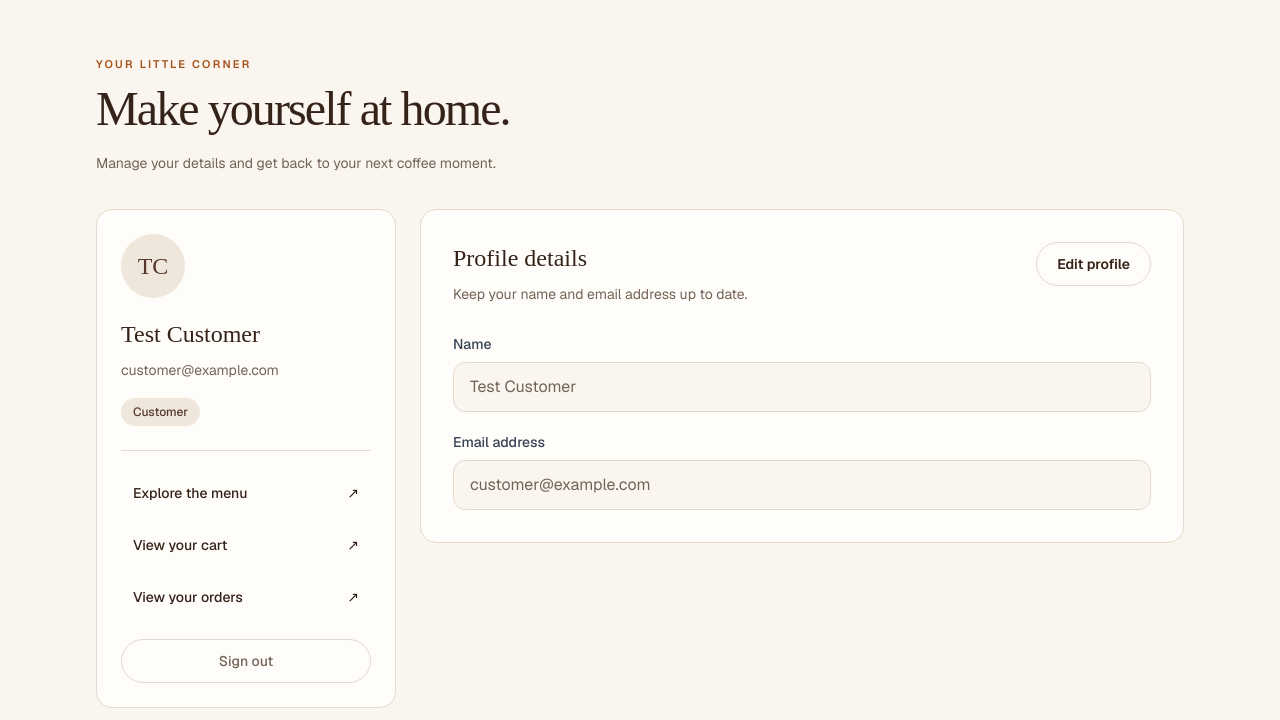
Test case: AccountPage › discards unsaved changes when editing is cancelled
Click the button "Edit profile" at (1094, 264), box [1036, 242, 1151, 286]
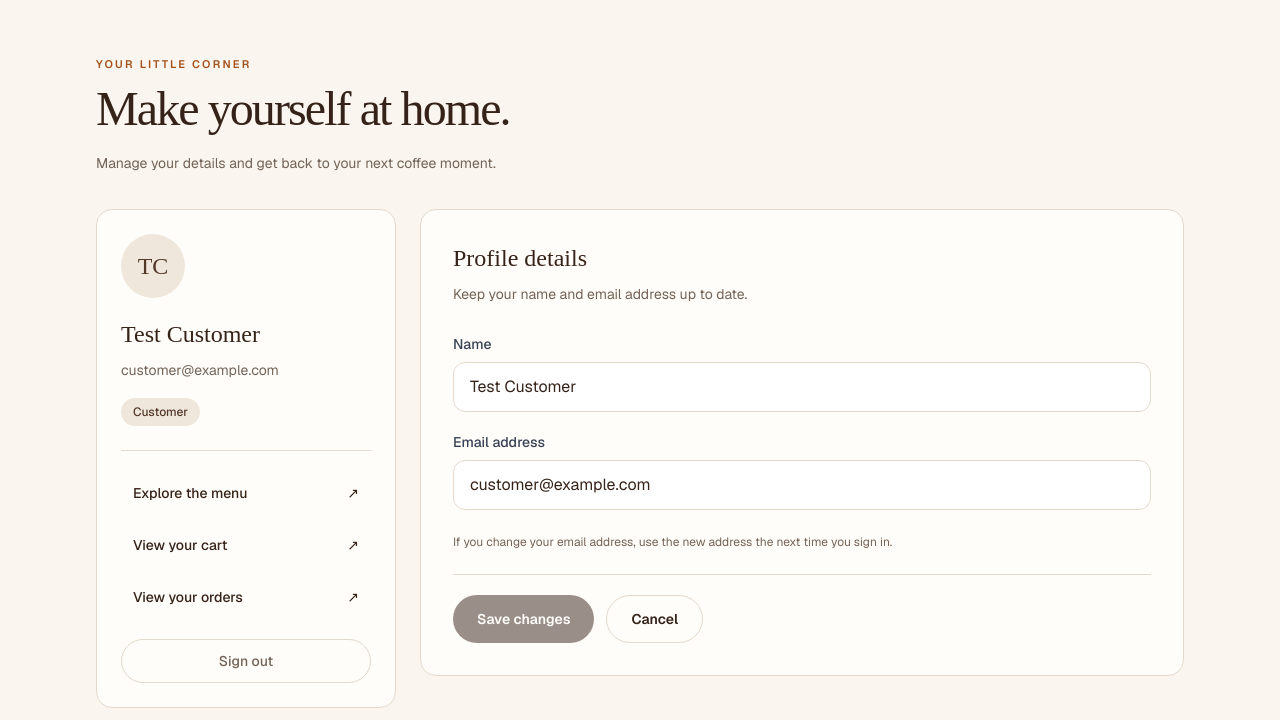
Replace the text in the field labelled "Name" with "Unsaved Customer" at (802, 386), box [453, 362, 1151, 412]
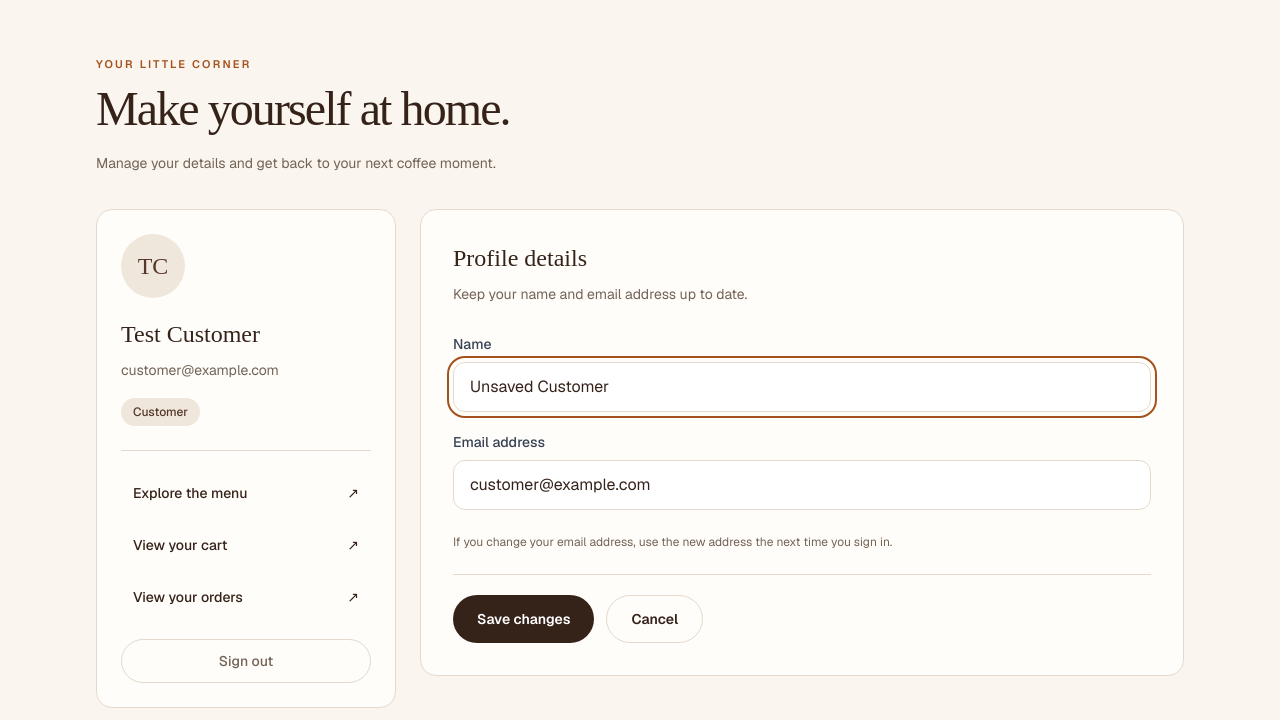
Click the button "Cancel" at (655, 618), box [606, 594, 703, 642]
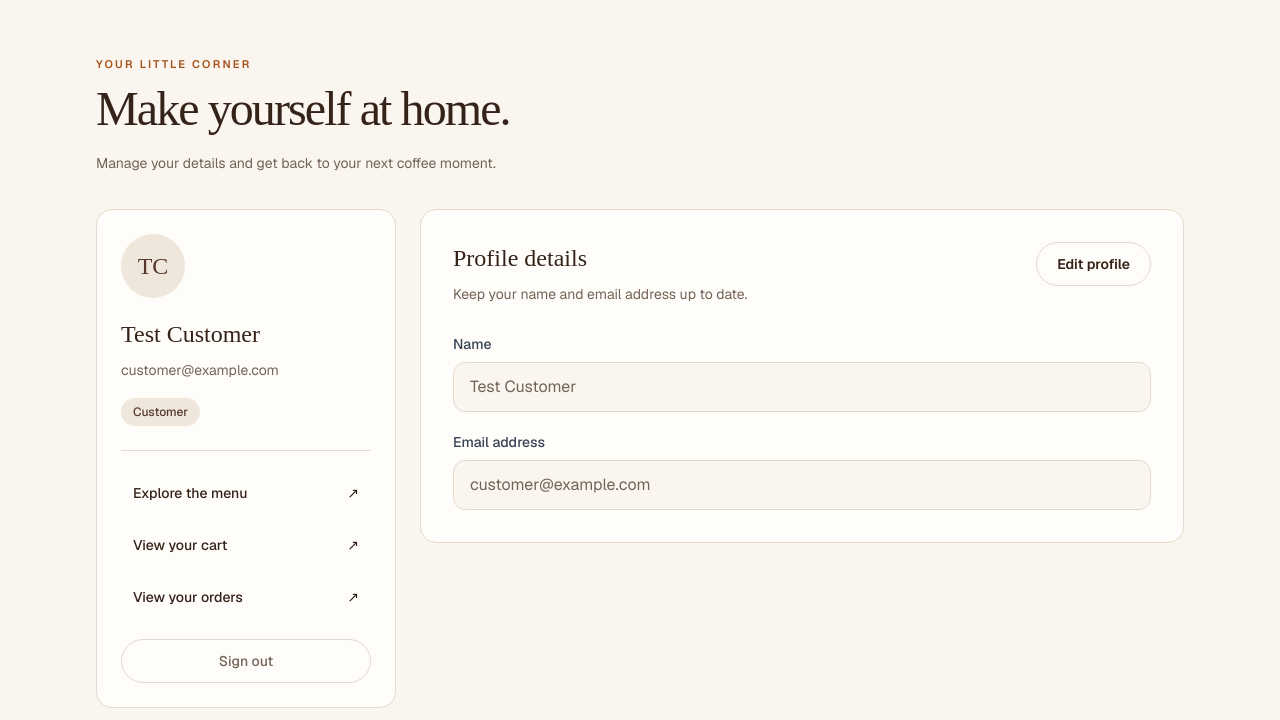
Now the field labelled "Name" holds "Test Customer", box [453, 362, 1151, 412]
